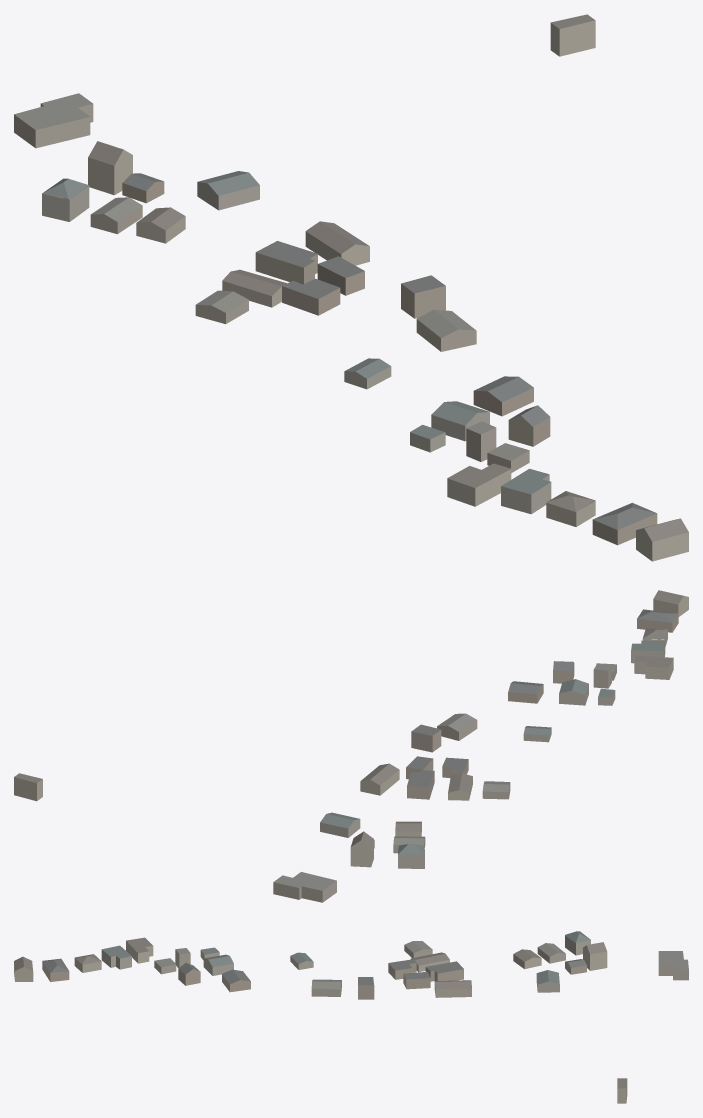
Rendered from 18ea36bfd283-chunk-1203_11841.glb.
3 views of the same model, one above another, from view 1: azimuth 30°, elevation 25°; view 2: azimuth 150°, elevation 25°; view 3: azimuth 270°, elevation 25° (orthographic). The views are drawn at different scales.
Parts seen in each view (by area): view 1: building_157632, building_39775, building_127345, building_77273, building_48560, building_168145, building_53979, building_126912, building_167848, building_26375, building_164784, building_77952 (+15 smaller); view 2: building_157632, building_77273, building_127345, building_53979, building_168145, building_167848, building_48560, building_39775, building_169294, building_126912, building_164784, building_45128 (+5 smaller); view 3: building_157632, building_77273, building_39775, building_48560, building_26375, building_127345, building_168145, building_126912, building_167848, building_45128, building_53979, building_164784 (+13 smaller).
Part boxes in pixels (x1,y1,x2,y2): building_157632: (14, 93, 93, 148); building_39775: (255, 241, 317, 284); building_127345: (447, 463, 511, 506); building_77273: (305, 221, 369, 265); building_48560: (88, 141, 132, 195); building_168145: (416, 309, 476, 351); building_53979: (197, 171, 259, 210); building_126912: (473, 376, 533, 416); building_167848: (592, 502, 657, 545); building_26375: (501, 468, 551, 514); building_164784: (636, 518, 688, 561); building_77952: (42, 178, 89, 221); building_157632: (273, 872, 336, 902); building_77273: (360, 763, 399, 795); building_127345: (634, 655, 673, 679); building_53979: (320, 812, 360, 837); building_168145: (437, 713, 477, 740); building_167848: (637, 609, 678, 632); building_48560: (350, 831, 373, 867); building_39775: (407, 770, 434, 799); building_169294: (411, 724, 441, 752); building_126912: (508, 681, 543, 703); building_164784: (653, 590, 688, 616); building_45128: (559, 679, 588, 705); building_157632: (658, 951, 688, 980); building_77273: (434, 980, 471, 997); building_39775: (425, 961, 463, 981); building_48560: (583, 942, 607, 970); building_26375: (101, 945, 131, 969); building_127345: (126, 937, 153, 963); building_168145: (311, 979, 341, 996); building_126912: (222, 969, 250, 992); building_167848: (42, 958, 69, 981); building_45128: (203, 954, 233, 975); building_53979: (536, 970, 559, 992); building_164784: (14, 956, 33, 981).
Bounding box in the file's own units: 169 × 11.11 × 301.
